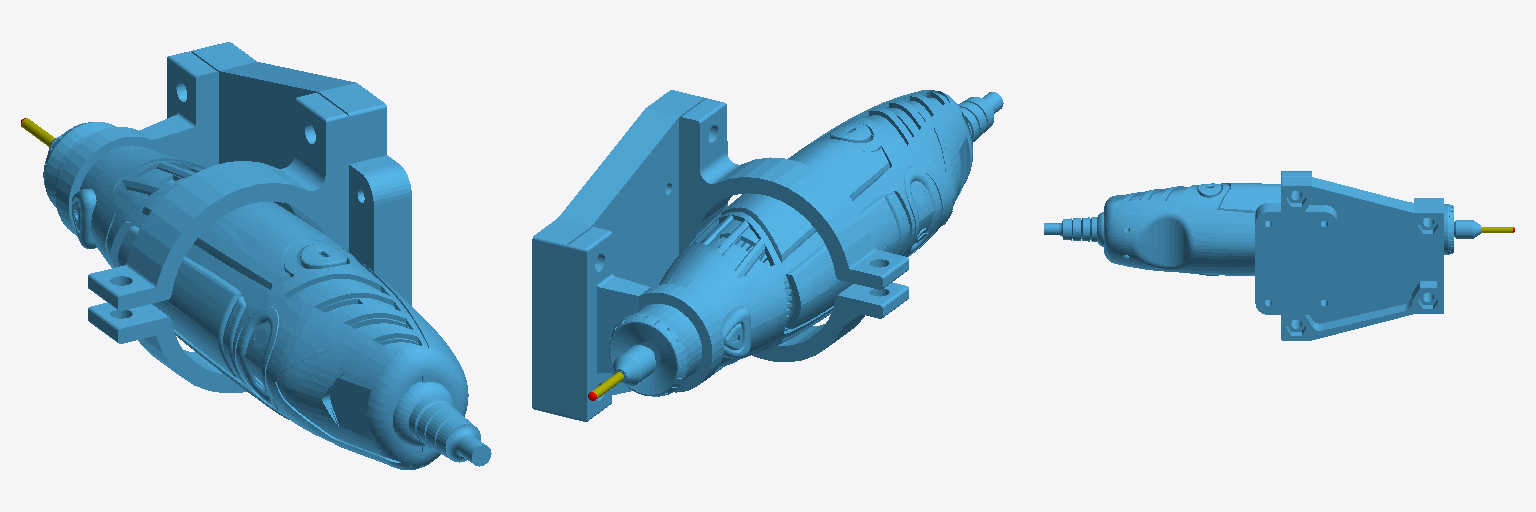
URDF robot description (endeffector):
<?xml version="1.0" ?>
<robot name="endeffector">

<link name="base">
</link>

<joint name="base_joint" type="fixed">
    <parent link="base"/>
    <child link="milling_tool"/>
    <origin rpy="0 0 0" xyz="-0.00 0.0 -0.0"/>
</joint>

<link name="milling_tool">
    <contact>
        <friction_anchor/>
        <stiffness value="3.0"/>
        <damping value="100000.00"/>
        <spinning_friction value="1.0"/>
        <lateral_friction value="1.0"/>
        <contact_cfm value="10000.0" />
        <contact_erp value="0.0" />
    </contact>
    <visual>
        <origin rpy="1.570796327 0 1.570796327" xyz="0.00 0.004 0.08"/>
        <geometry>
            <mesh filename="endeffector_mesh/Dremel_2.stl" scale="0.001 0.001 0.001"/>
        </geometry>
    </visual>
</link>

<joint name="mill_joint" type="fixed">
    <parent link="base"/>
    <child link="mill_tip"/>
    <origin rpy="0 0 0" xyz="-0.106 0.125 0.028"/>
</joint>

<link name="mill_tip">
    <visual>
        <origin rpy="1.570796327 0 0" xyz="-0.0 -0.02 0.0 "/>
        <geometry>
            <cylinder radius="0.0016" length="0.04"/>
        </geometry>
        <material name="yellow">
            <color rgba="0.7 0.7 0.0 1.0"/>
        </material>
    </visual>
</link>

<joint name="mill_joint2" type="fixed">
    <parent link="base"/>
    <child link="mill_tip_2"/>
    <origin rpy="0 0 0" xyz="-0.106 0.125 0.028"/>
</joint>

<link name="mill_tip_2">
    <visual>
        <geometry>
            <sphere radius="0.0016"/>
        </geometry>
        <material name="red">
            <color rgba="1.0 0.0 0.0 1.0"/>
        </material>
    </visual>
</link>
</robot>

--- Facts derived from the render (not from the file) ---
Views: 3 orthographic renders of the robot side by side, from view 1: azimuth 30°, elevation 25°; view 2: azimuth 150°, elevation 25°; view 3: azimuth 270°, elevation 25°.
Model endeffector with 4 links and 3 joints (3 fixed), rooted at base, posed all joints at 0.
Links seen in each view (by area): view 1: milling_tool; view 2: milling_tool; view 3: milling_tool.
Link boxes in pixels (x1=…): milling_tool: x1=43, y1=42, x2=491, y2=469; milling_tool: x1=532, y1=90, x2=1003, y2=421; milling_tool: x1=1044, y1=171, x2=1480, y2=340.
Bounding box of the posed robot: 0.0916 × 0.2702 × 0.0976 m (x, y, z).
1 mesh visuals loaded from 1 distinct referenced files (1 binary STL).